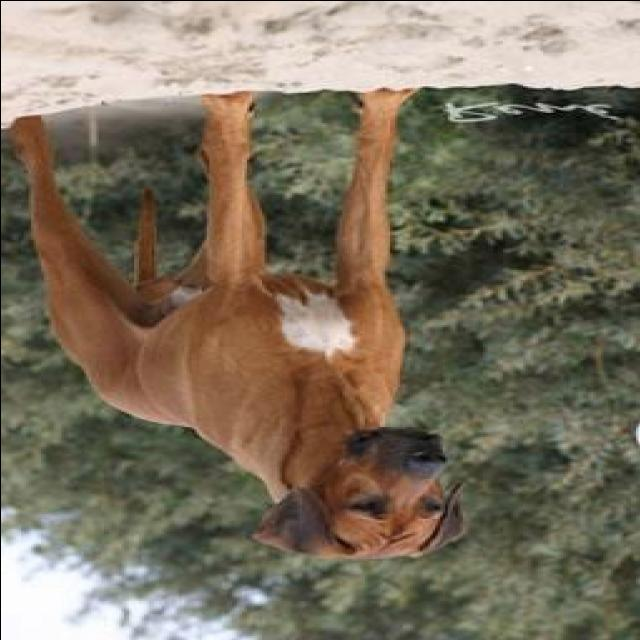rhodesian_ridgeback: (2, 82, 474, 566)
